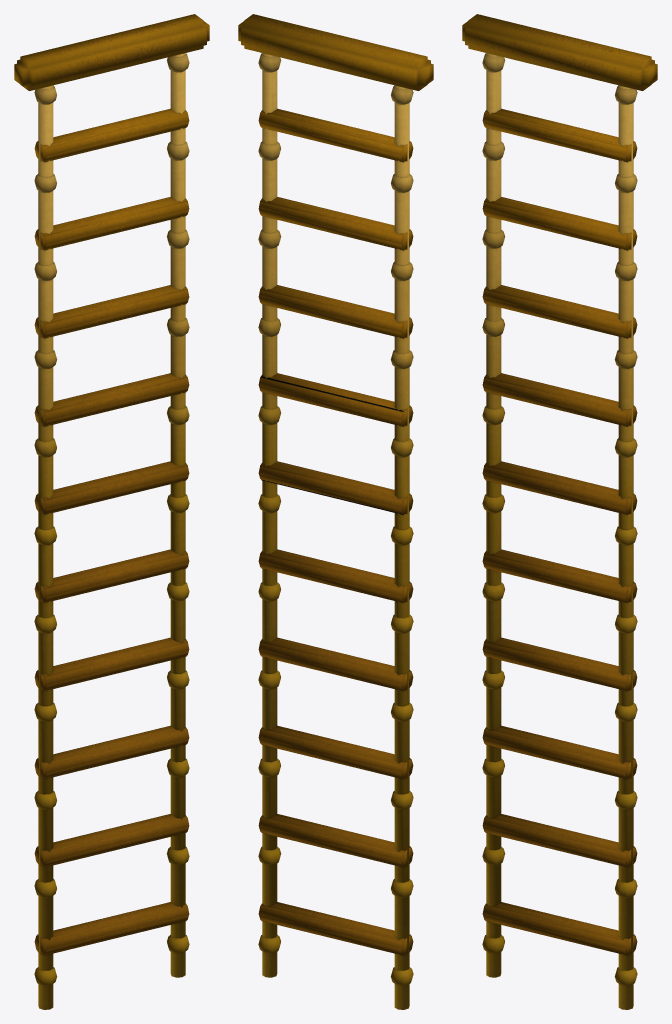
The model's file is RopeLadder.fbx.
3 renders of one model, left to right at view 1: azimuth 30°, elevation 25°; view 2: azimuth 150°, elevation 25°; view 3: azimuth 330°, elevation 25°, orthographic.
Parts seen in each view (by area): view 1: RopeLadder; view 2: RopeLadder; view 3: RopeLadder.
Part boxes in pixels (<box>): RopeLadder: <box>14,14,209,1009</box>; RopeLadder: <box>238,14,433,1009</box>; RopeLadder: <box>462,14,657,1009</box>.
Bounding box in the file's own units: 0.62 × 3.03 × 0.09.
